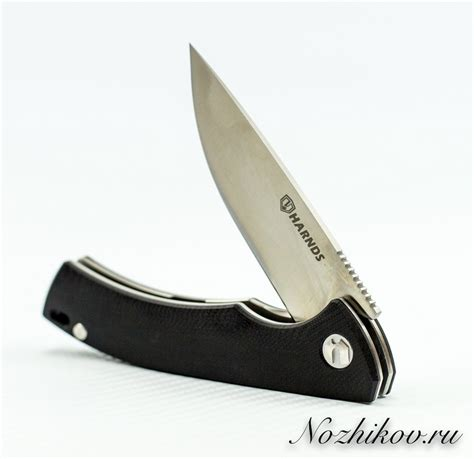knife: (39, 43, 396, 404)
